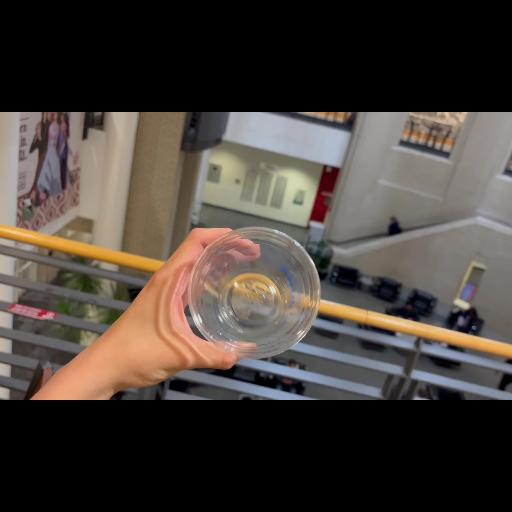lp_plastic_cup: (186, 225, 320, 363)
